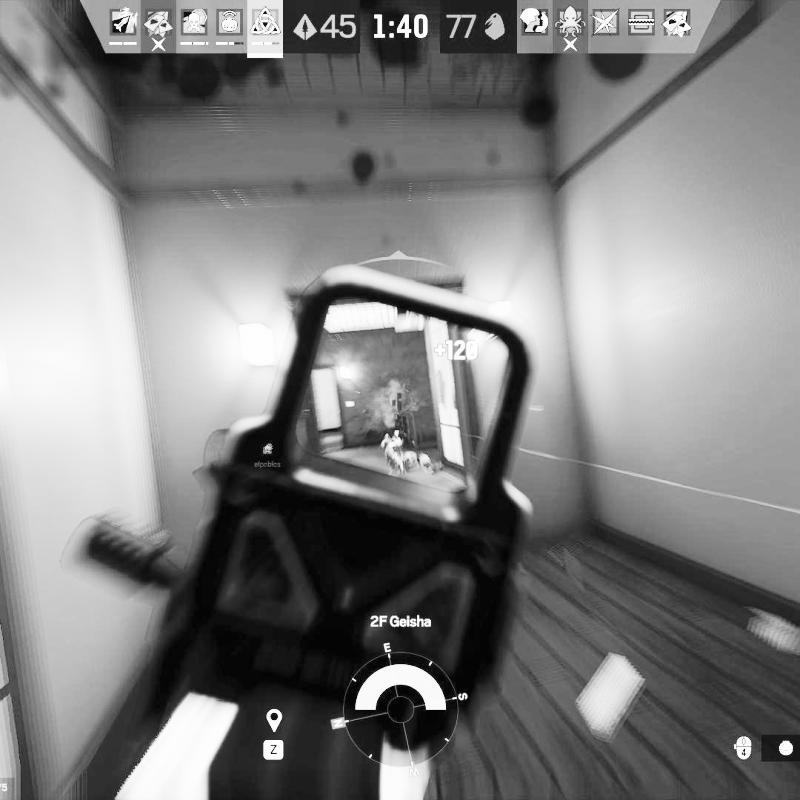Character: (379, 426, 446, 478)
Friend_label: (250, 440, 286, 472)
